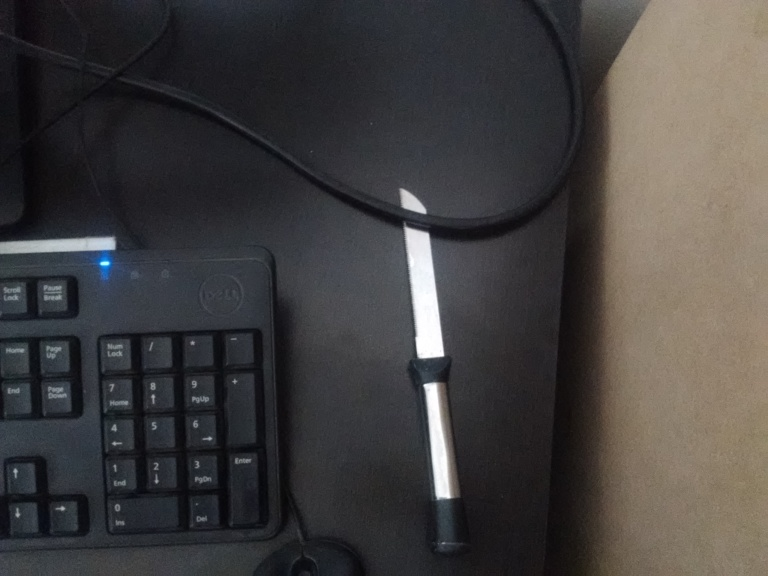knife: (398, 189, 474, 559)
